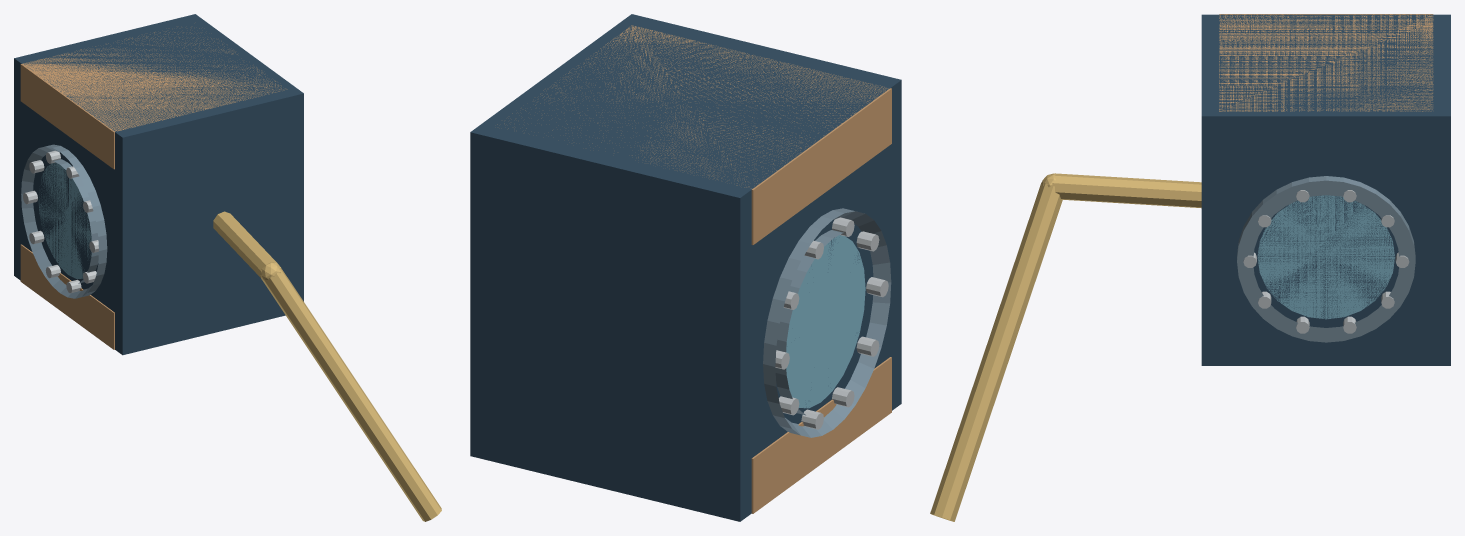
Rendered from 12_L75_NeutralParticleSeparationModule.glb.
3 views of the same model, side by side, from view 1: azimuth 30°, elevation 25°; view 2: azimuth 150°, elevation 25°; view 3: azimuth 270°, elevation 25° (orthographic). The views are drawn at different scales.
Visible parts, largest first — view 1: NeutralParticleSeparationModule_Node_0025, NeutralParticleSeparationModule_Node_0027, NeutralParticleSeparationModule_Node_0051, NeutralParticleSeparationModule_Node_0000, NeutralParticleSeparationModule_Node_0001, NeutralParticleSeparationModule_Node_0026, NeutralParticleSeparationModule_Node_0050; view 2: NeutralParticleSeparationModule_Node_0025, NeutralParticleSeparationModule_Node_0027, NeutralParticleSeparationModule_Node_0000, NeutralParticleSeparationModule_Node_0001, NeutralParticleSeparationModule_Node_0026; view 3: NeutralParticleSeparationModule_Node_0025, NeutralParticleSeparationModule_Node_0027, NeutralParticleSeparationModule_Node_0000, NeutralParticleSeparationModule_Node_0051, NeutralParticleSeparationModule_Node_0012, NeutralParticleSeparationModule_Node_0050.
Boxes of the visible parts, bbox=[...] form: NeutralParticleSeparationModule_Node_0025: bbox=[14, 14, 303, 355]; NeutralParticleSeparationModule_Node_0027: bbox=[20, 28, 287, 169]; NeutralParticleSeparationModule_Node_0051: bbox=[262, 268, 441, 521]; NeutralParticleSeparationModule_Node_0000: bbox=[38, 162, 91, 278]; NeutralParticleSeparationModule_Node_0001: bbox=[21, 144, 107, 298]; NeutralParticleSeparationModule_Node_0026: bbox=[20, 244, 114, 349]; NeutralParticleSeparationModule_Node_0050: bbox=[213, 211, 279, 278]; NeutralParticleSeparationModule_Node_0025: bbox=[470, 14, 901, 521]; NeutralParticleSeparationModule_Node_0027: bbox=[497, 25, 891, 244]; NeutralParticleSeparationModule_Node_0000: bbox=[786, 235, 865, 408]; NeutralParticleSeparationModule_Node_0001: bbox=[763, 208, 891, 437]; NeutralParticleSeparationModule_Node_0026: bbox=[751, 357, 891, 513]; NeutralParticleSeparationModule_Node_0025: bbox=[1201, 14, 1450, 365]; NeutralParticleSeparationModule_Node_0027: bbox=[1219, 14, 1433, 111]; NeutralParticleSeparationModule_Node_0000: bbox=[1257, 195, 1394, 319]; NeutralParticleSeparationModule_Node_0051: bbox=[930, 182, 1062, 521]; NeutralParticleSeparationModule_Node_0012: bbox=[1237, 176, 1415, 342]; NeutralParticleSeparationModule_Node_0050: bbox=[1052, 173, 1201, 208].
Bounding box in the file's own units: 0.9725 × 1.5 × 1.78.
